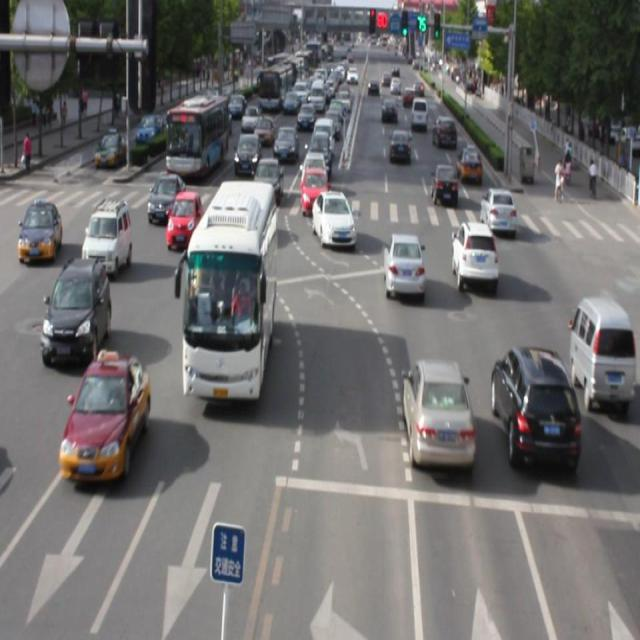car: (61, 354, 150, 484), (488, 345, 577, 469), (402, 358, 472, 466), (42, 258, 112, 363), (82, 198, 131, 276), (451, 220, 498, 290), (382, 230, 424, 300), (311, 196, 355, 253), (166, 190, 198, 250), (148, 176, 182, 227), (479, 186, 514, 234)
truck: (568, 294, 630, 410)
van: (182, 182, 275, 400)
